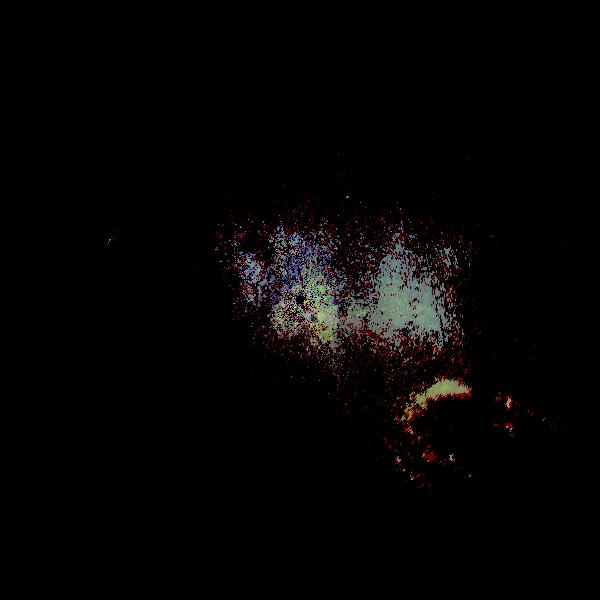roost: (388, 357, 535, 504)
